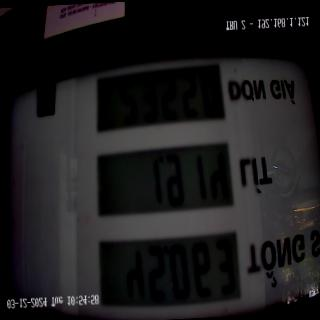screen: (82, 41, 248, 320)
